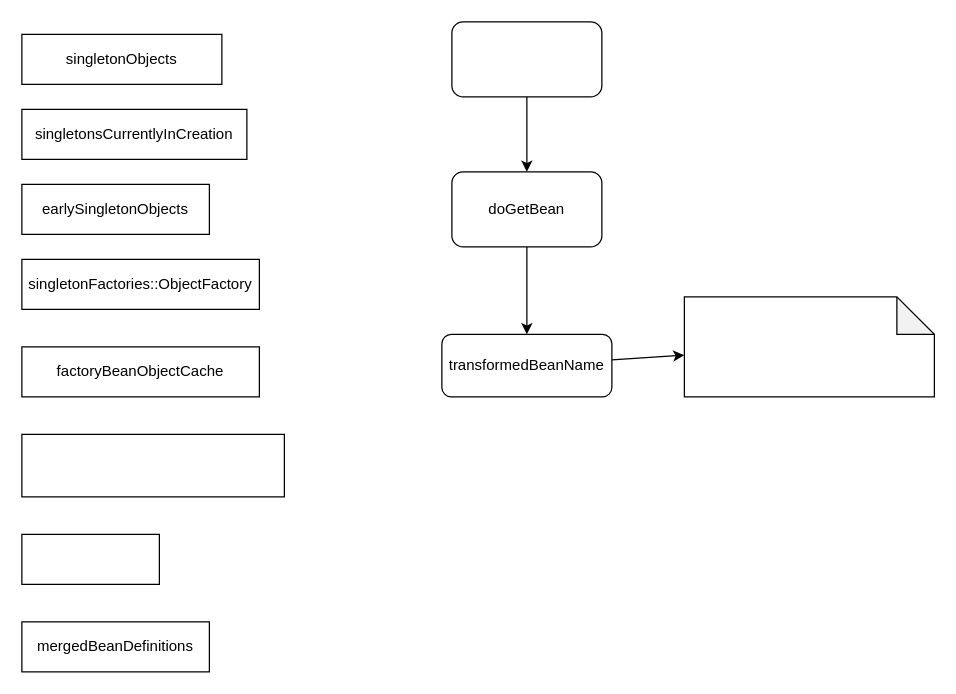
Image size: 956x694. Some labels were removed from this diagram. Each missing label, with the box of its shape:
1、对于获取工厂类bean，将开始&截取掉 2、根据传入name，是否为alias，获取realname: (683, 296, 934, 397)
AbstractBeanFactory getBean: (451, 21, 602, 97)
alreadyCreated: (21, 533, 159, 584)
prototypesCurrentlyInCreation: (21, 433, 284, 497)
